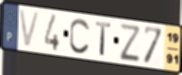4: (43, 13, 61, 53)
7: (143, 25, 164, 66)
C: (68, 16, 92, 56)
T: (94, 20, 112, 58)
V: (17, 8, 42, 50)
Z: (119, 22, 142, 63)
